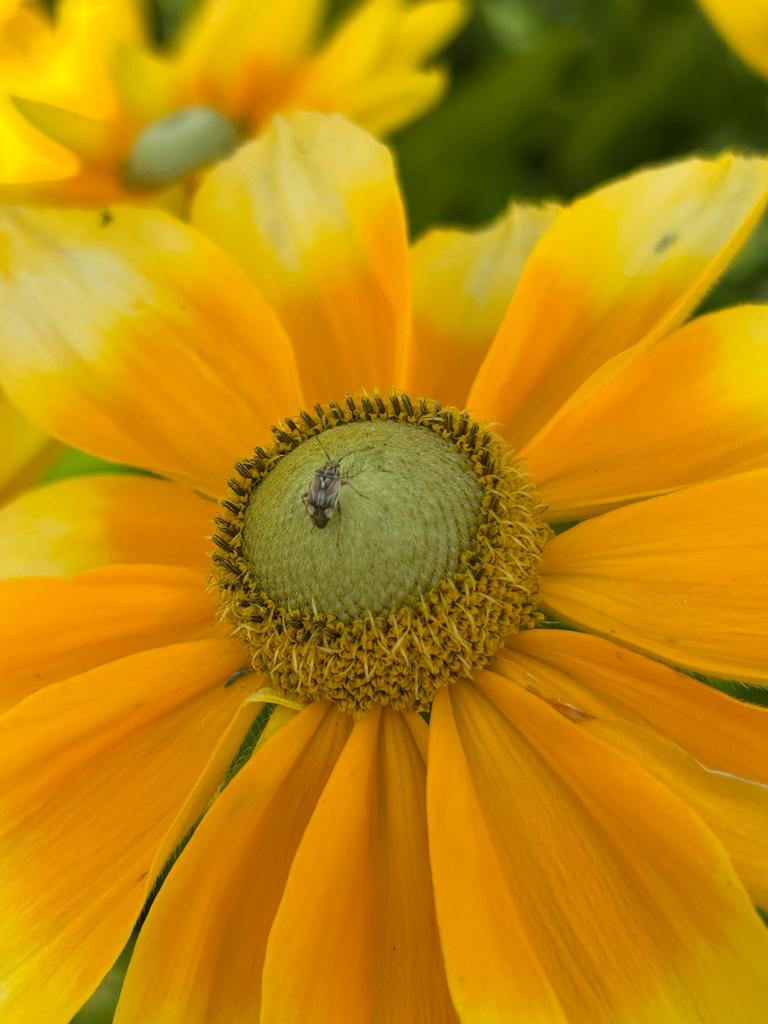plant_bugs: (275, 422, 389, 538)
